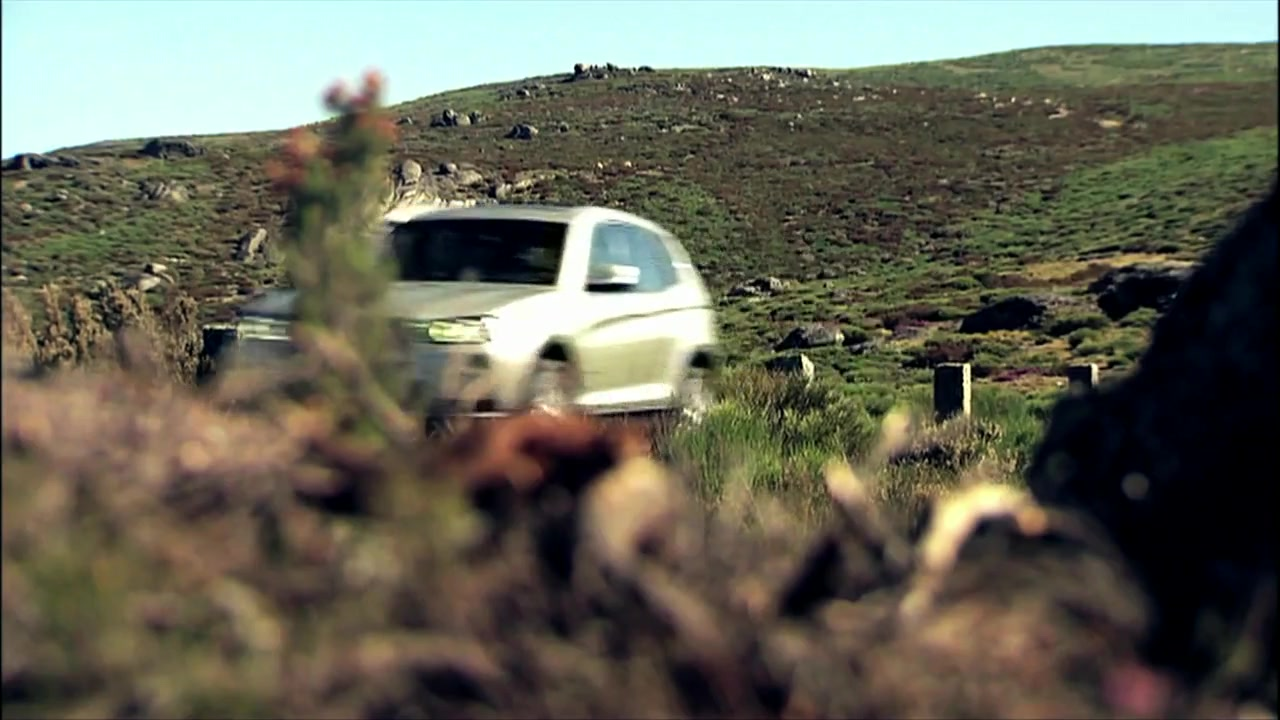car: (231, 206, 732, 440)
